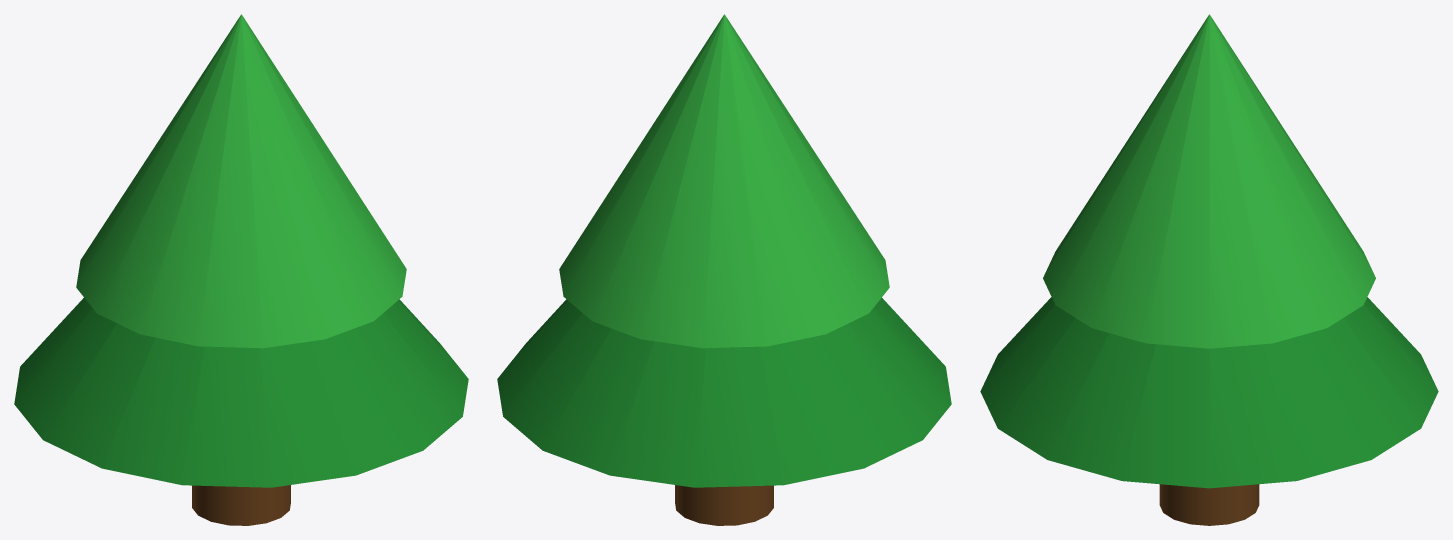
File: tree.obj
The picture shows the model from 3 angles, left to right: view 1: azimuth 30°, elevation 25°; view 2: azimuth 150°, elevation 25°; view 3: azimuth 270°, elevation 25°; orthographic projection.
Bounding box in the file's own units: 1.1 × 1.3 × 1.1.
